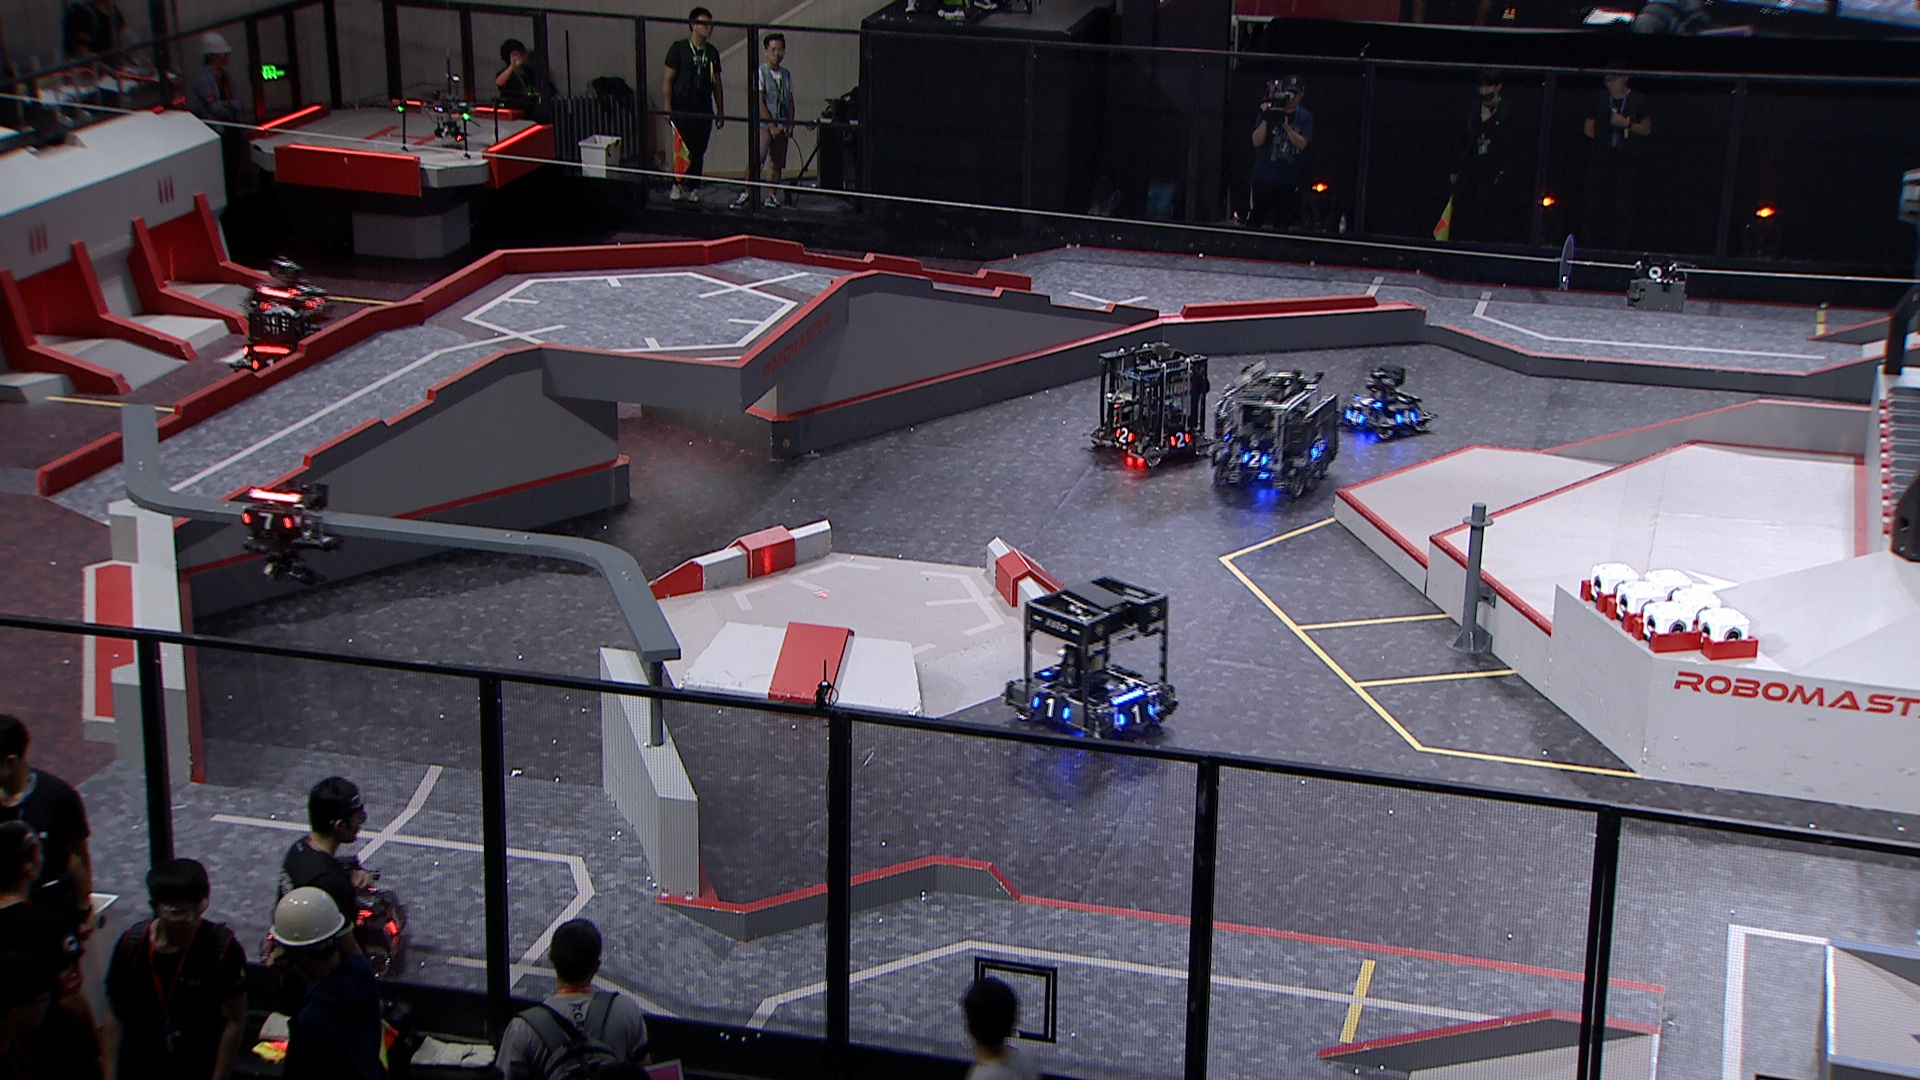armor: (237, 508, 295, 533), (1030, 695, 1069, 723), (1116, 700, 1155, 727), (357, 885, 381, 920), (384, 906, 406, 935), (1240, 448, 1269, 469), (1112, 427, 1135, 446), (1168, 431, 1189, 451), (252, 357, 278, 373), (1309, 439, 1327, 462), (305, 295, 328, 311), (1394, 409, 1416, 425), (1344, 409, 1366, 425), (286, 284, 314, 295), (1356, 396, 1381, 407)
car: (1001, 572, 1178, 746), (1207, 357, 1342, 501), (255, 858, 410, 981), (1087, 342, 1212, 469), (233, 301, 334, 396), (1335, 361, 1441, 442), (244, 258, 332, 328)
watcher: (233, 483, 344, 589)
